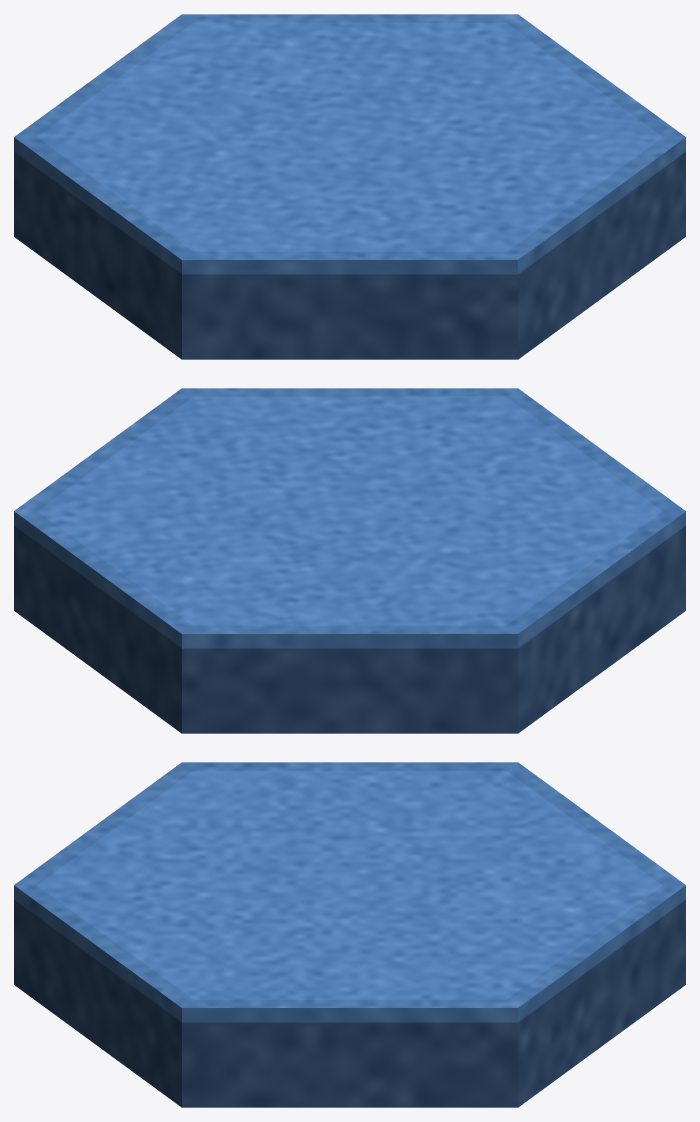
The model's file is water.obj.
3 renders of one model, top to bottom at view 1: azimuth 30°, elevation 25°; view 2: azimuth 150°, elevation 25°; view 3: azimuth 270°, elevation 25°, orthographic.
Visible parts, largest first — view 1: tile; view 2: tile; view 3: tile.
Part boxes in pixels (bbox=[...]): tile: bbox=[14, 14, 685, 359]; tile: bbox=[14, 388, 685, 733]; tile: bbox=[14, 762, 685, 1107].
Bounding box in the file's own units: 0.9526 × 0.18 × 1.1.
Materials: 1 (1 with a texture image).
